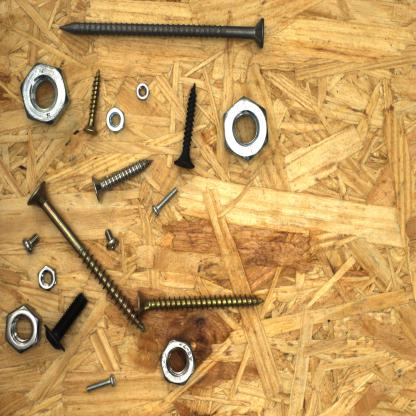screw: (24, 178, 149, 336), (56, 14, 268, 52), (131, 286, 267, 322), (41, 288, 91, 356), (87, 156, 155, 206), (171, 78, 200, 170), (80, 66, 104, 138), (150, 185, 181, 219), (82, 371, 119, 394), (100, 223, 122, 254), (19, 232, 43, 255)
